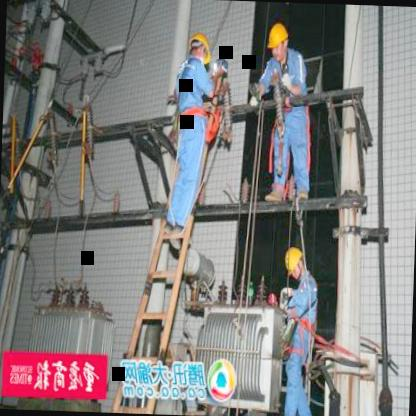helmet: (266, 19, 290, 64), (187, 29, 214, 68), (282, 240, 305, 283)
